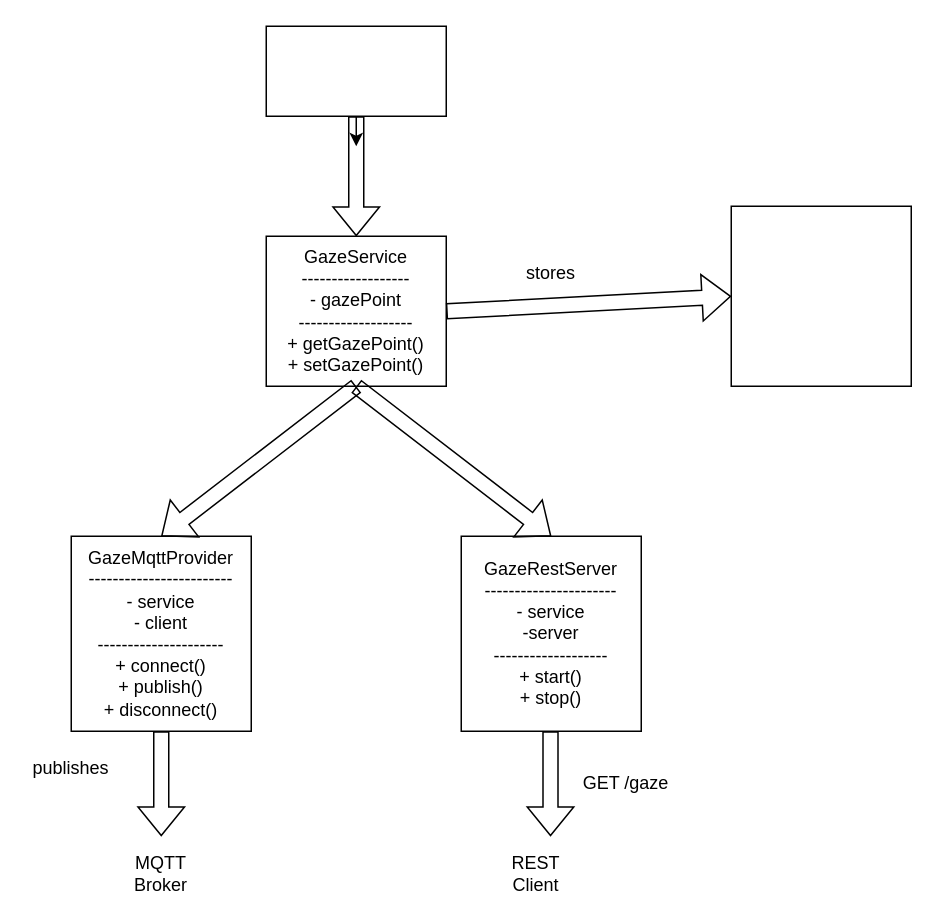
The diagram is 938 pixels wide and 923 high, and some of its shapes have lost their labels. Each missing label, with the centre of its shape:
"GatherEye ---------------- + main ()" goes at (x=355, y=70).
"GazePoint --------------- + x : double + y : double --------------- + setXY()" goes at (x=820, y=295).
